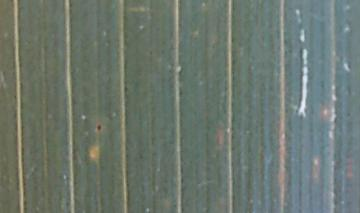tarspot: (96, 123, 102, 132)
